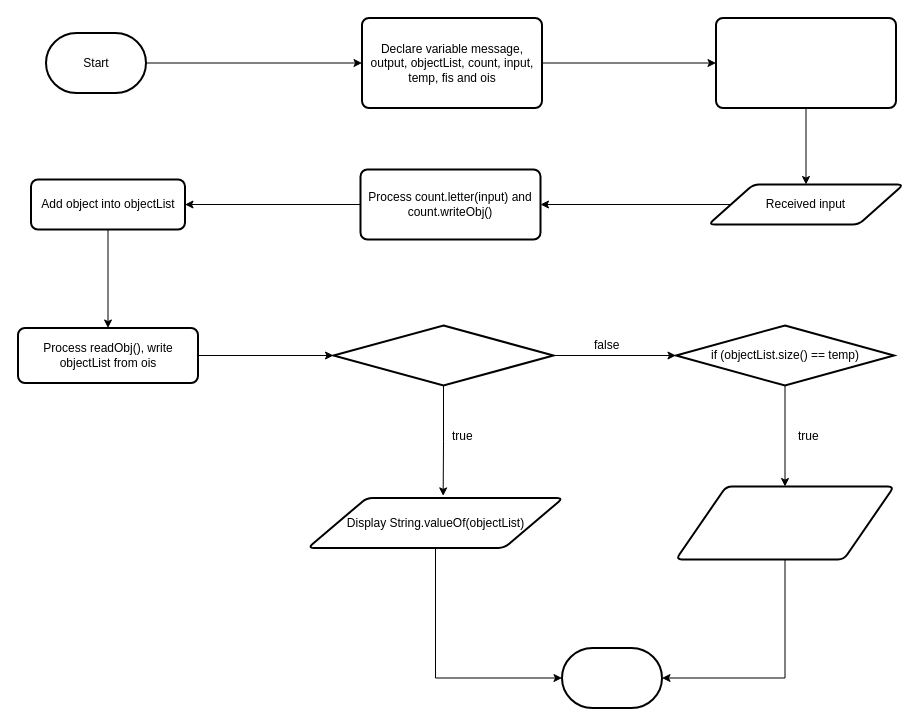
Some shapes in this 922 by 726 pixel diagram are drawn without their labels. Each missing label, with the centre of its shape:
Display output of "Sorry, there have no letter occur more than 3 times.": [784,522]
if (objectList.size() > temp): [443,355]
Override onUpdateReceived (Update update), getBotUsername() and getBotToken(): [805,62]
Stop: [611,677]
